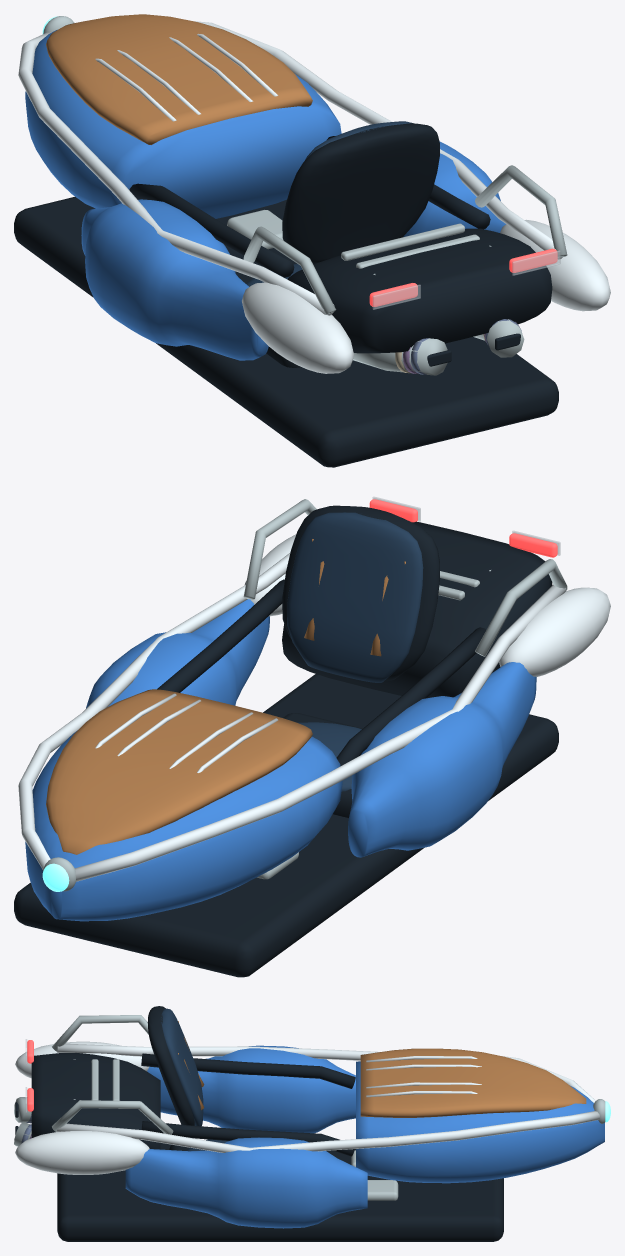
File: noa_tide.glb
3 renders of one model, top to bottom at view 1: azimuth 30°, elevation 25°; view 2: azimuth 150°, elevation 25°; view 3: azimuth 270°, elevation 25°, orthographic. The views are drawn at different scales.
Parts seen in each view (by area): view 1: LOD0, ShowroomDetail; view 2: LOD0; view 3: LOD0.
Boxes of the visible parts, left/top/right/bottom form: LOD0: left=14, top=14, right=610, bottom=467; ShowroomDetail: left=372, top=250, right=560, bottom=374; LOD0: left=14, top=499, right=610, bottom=977; LOD0: left=14, top=1006, right=610, bottom=1241.
Size of what is drawn, in the model's own units: 1.27 by 0.868 by 2.54.
